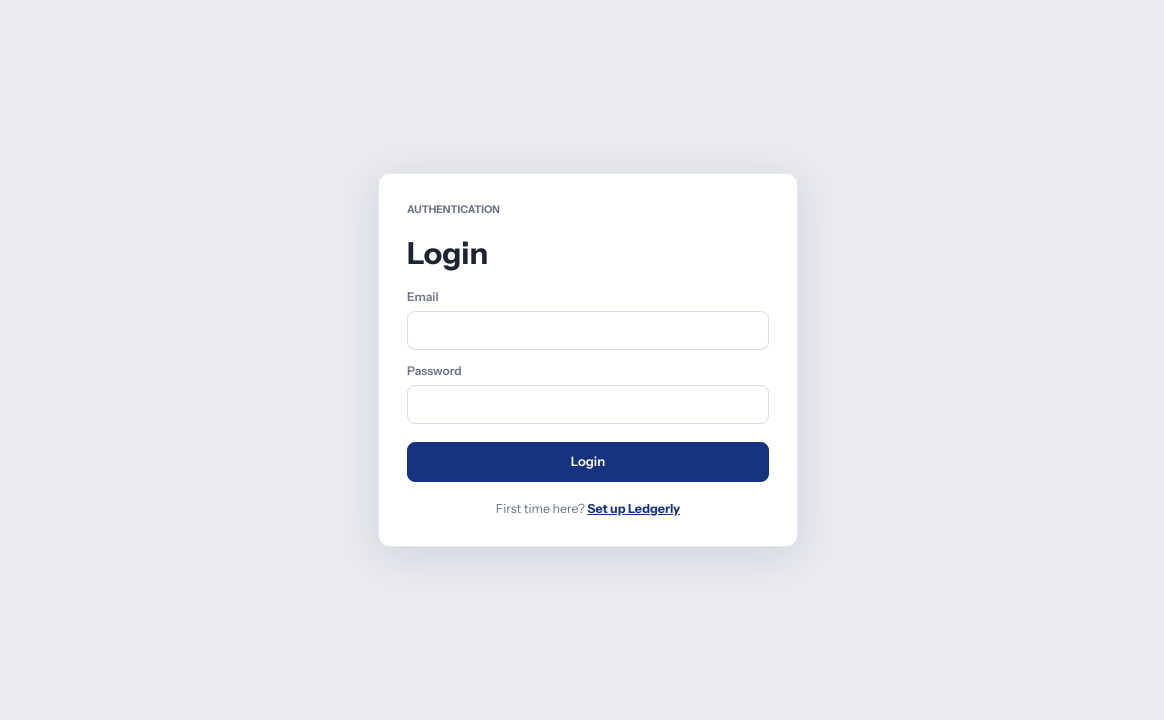
Test case: LoginScreen › links first-time users to registration
This screenshot has width=1164, height=720.
Expected: the text "First time here?" is shown, top-left (496, 501), bottom-right (587, 516)
Click the link "Set up Ledgerly". click: (634, 509)
box: top-left (587, 501), bottom-right (680, 516)
(page scrolled)
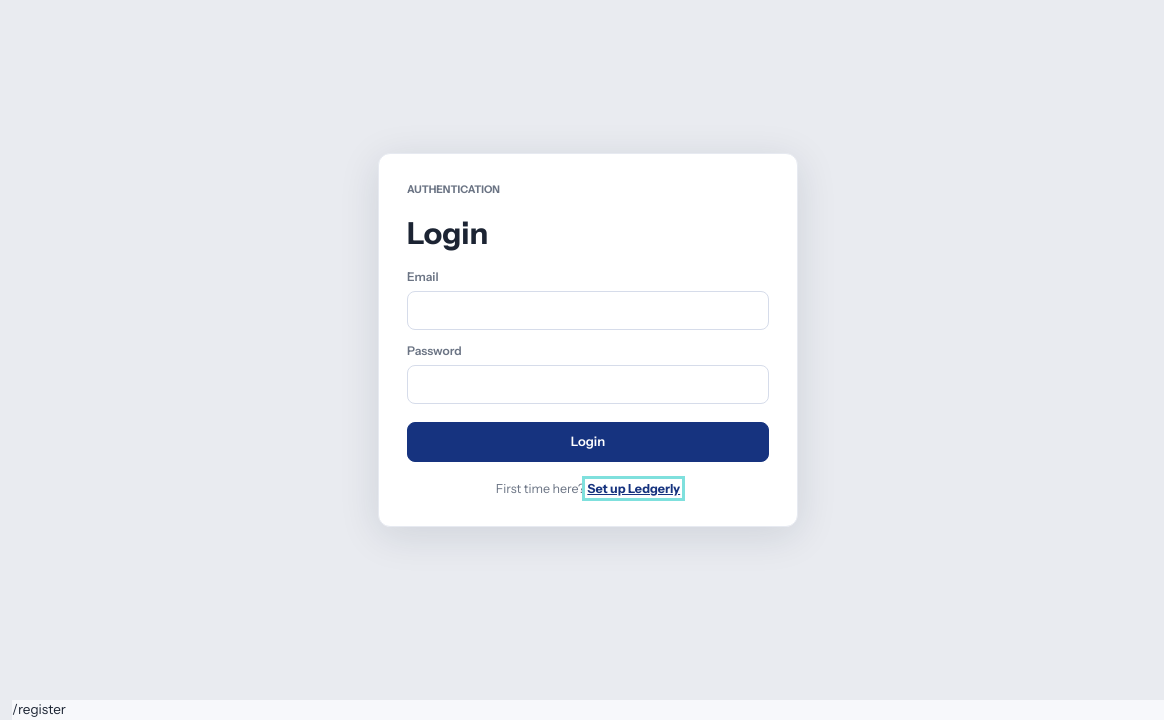
Expected: the text with test id "location" reads "/register", top-left (12, 701), bottom-right (66, 717)
